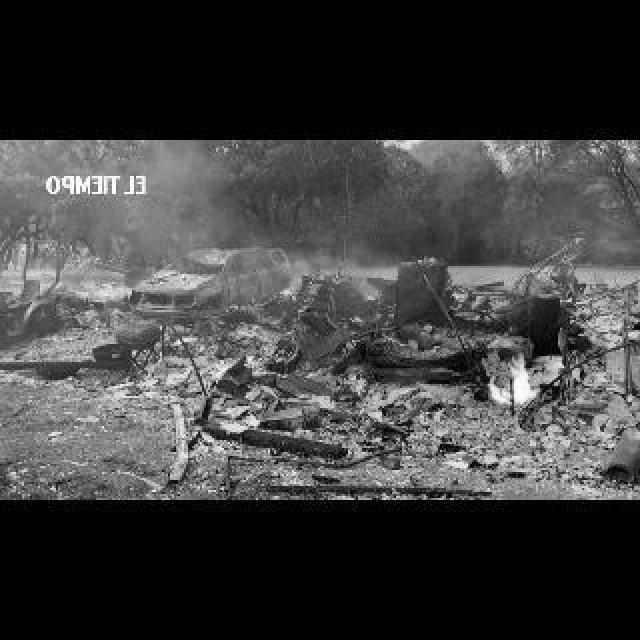Fire: (486, 354, 536, 406), (360, 270, 384, 298), (286, 286, 298, 300), (354, 316, 364, 322)
